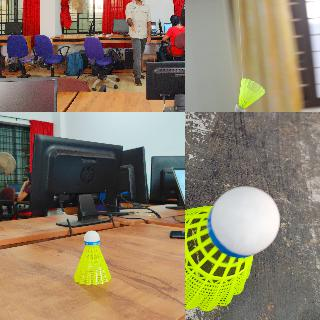shuttlecock: (185, 186, 280, 313), (73, 230, 111, 284), (234, 78, 266, 111)
